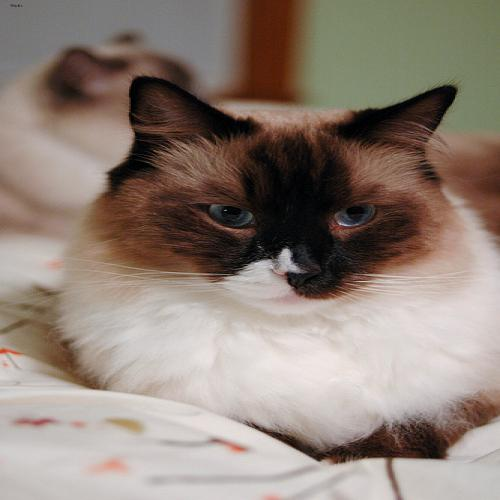ragdoll: (113, 68, 470, 329)
